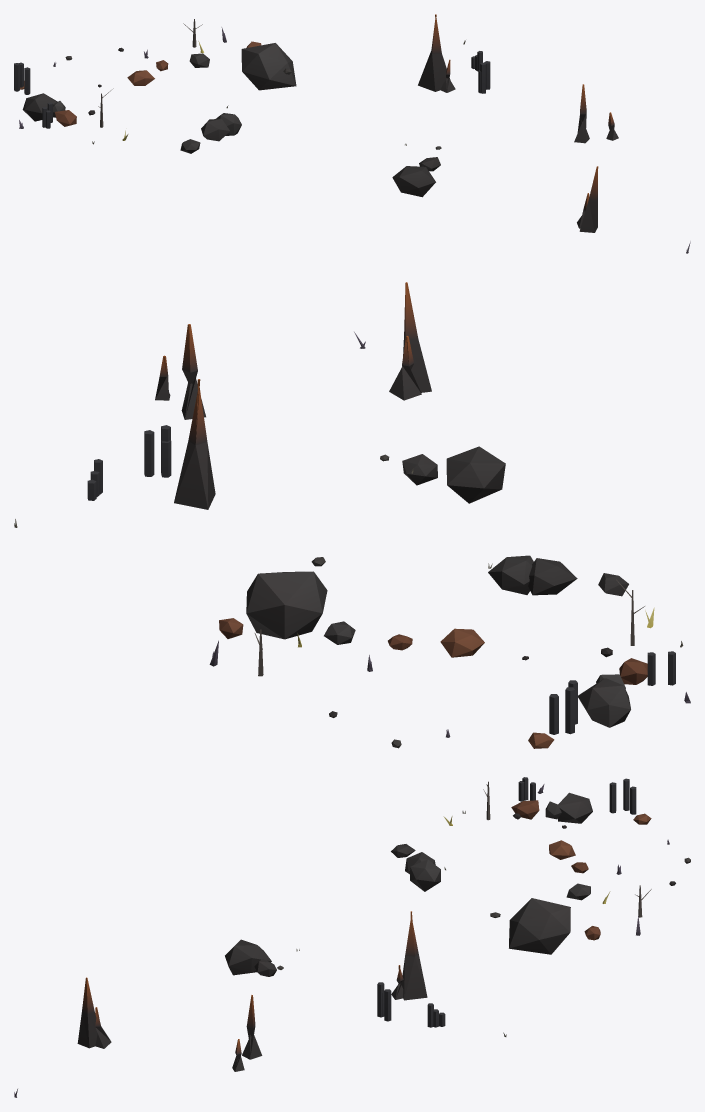
Rendered from ash_land_scatter_c20_31_lod1.glb.
3 renders of one model, top to bottom at view 1: azimuth 30°, elevation 25°; view 2: azimuth 150°, elevation 25°; view 3: azimuth 270°, elevation 25°, orthographic. The views are drawn at different scales.
Parts seen in each view (by area): view 1: ash_land_scatter_c20_31_lod1; view 2: ash_land_scatter_c20_31_lod1; view 3: ash_land_scatter_c20_31_lod1.
Boxes of the visible parts, box(x1,y1,x2,y2) form: ash_land_scatter_c20_31_lod1: box(14, 14, 690, 253); ash_land_scatter_c20_31_lod1: box(14, 282, 690, 748); ash_land_scatter_c20_31_lod1: box(14, 777, 690, 1097).
Size of the model in its own units: 87.28 by 23.02 by 98.1.
